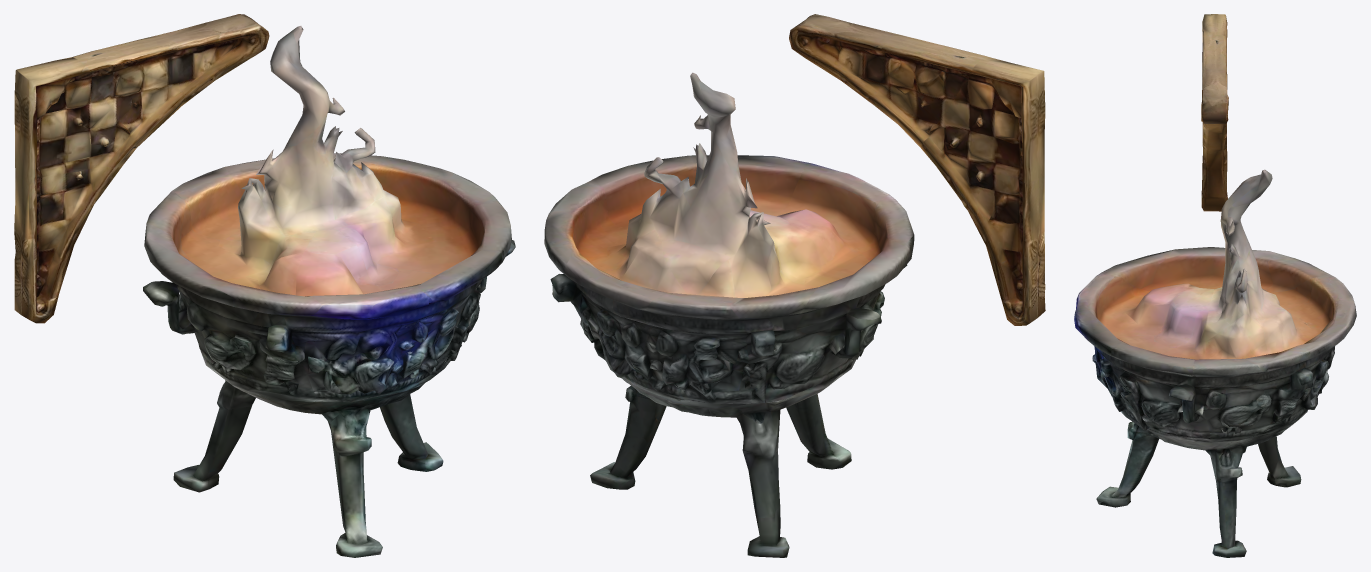
File: brazier.glb
3 renders of one model, left to right at view 1: azimuth 30°, elevation 25°; view 2: azimuth 150°, elevation 25°; view 3: azimuth 270°, elevation 25°, orthographic. The views are drawn at different scales.
Visible parts, largest first — view 1: tripo_node_d96bf074-51d7-490c-aff8-62cc07a272a8; view 2: tripo_node_d96bf074-51d7-490c-aff8-62cc07a272a8; view 3: tripo_node_d96bf074-51d7-490c-aff8-62cc07a272a8.
Part boxes in pixels (bbox=[...]): tripo_node_d96bf074-51d7-490c-aff8-62cc07a272a8: bbox=[14, 14, 515, 557]; tripo_node_d96bf074-51d7-490c-aff8-62cc07a272a8: bbox=[544, 14, 1045, 557]; tripo_node_d96bf074-51d7-490c-aff8-62cc07a272a8: bbox=[1074, 14, 1356, 557].
Bounding box in the file's own units: 0.977 × 0.9796 × 0.6509.
1 material, 1 textured.
